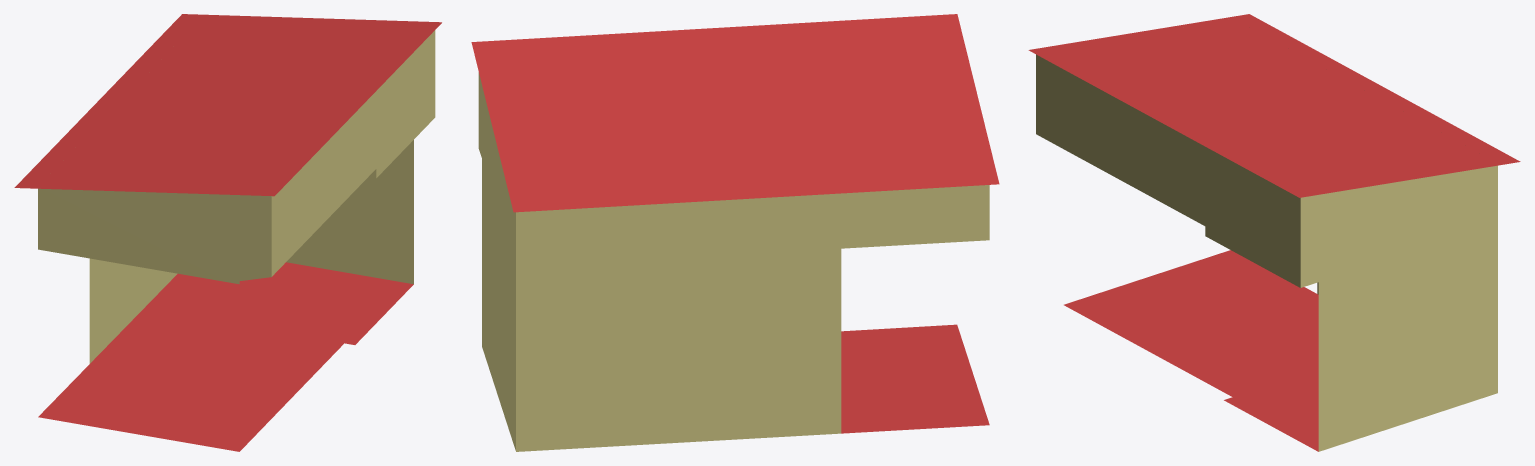
3 renders of one model, left to right at view 1: azimuth 30°, elevation 25°; view 2: azimuth 150°, elevation 25°; view 3: azimuth 270°, elevation 25°, orthographic. The views are drawn at different scales.
Bounding box in the file's own units: 22.93 × 21.66 × 12.77.
